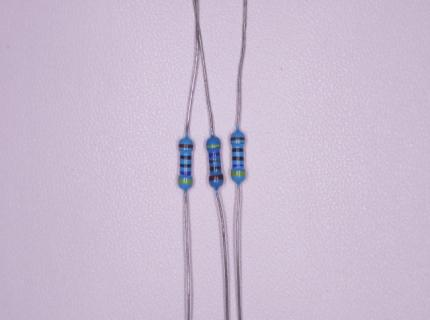Black band: (209, 166, 221, 172), (232, 156, 244, 161), (232, 148, 244, 153), (209, 159, 221, 164), (180, 155, 191, 160), (180, 164, 191, 169)
Brown band: (208, 174, 224, 181), (178, 143, 193, 149), (231, 137, 245, 142)
Violet band: (208, 151, 219, 158), (179, 179, 191, 184), (232, 164, 243, 168)
Yellow band: (178, 186, 193, 192), (231, 171, 246, 176), (206, 144, 221, 149)
